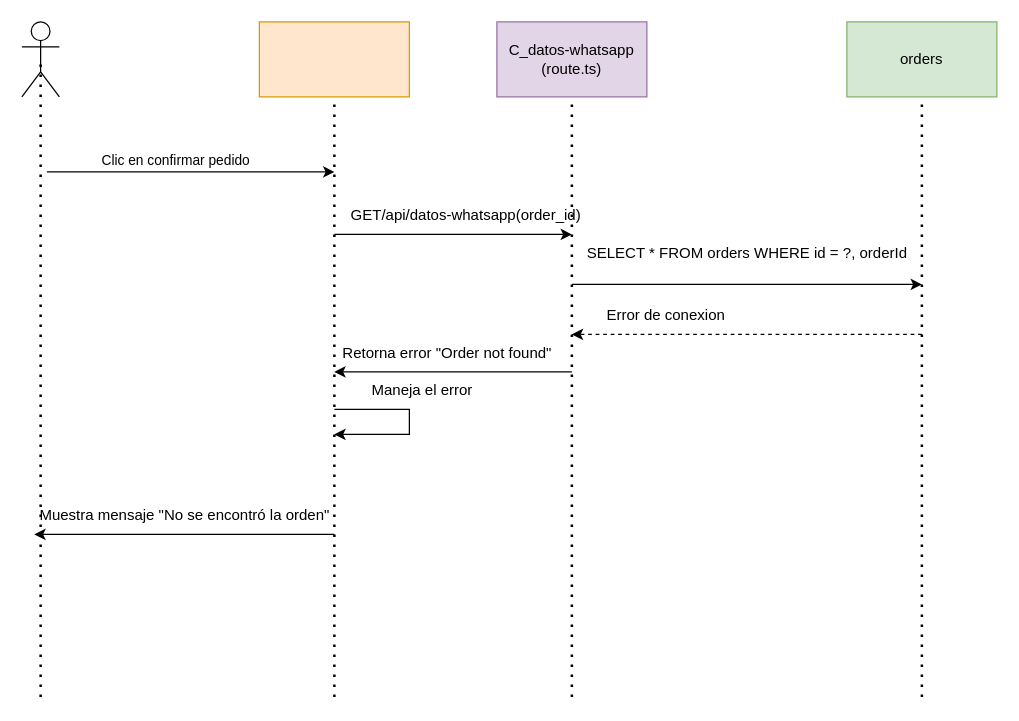
The diagram is 1019 pixels wide and 721 high, and some of its shapes have lost their labels. The centre of each missing label's shape, as x and y in pixels:
"Actor" goes at pixel 40 59.
"V_redireccion-whattsap" goes at pixel 333 59.
